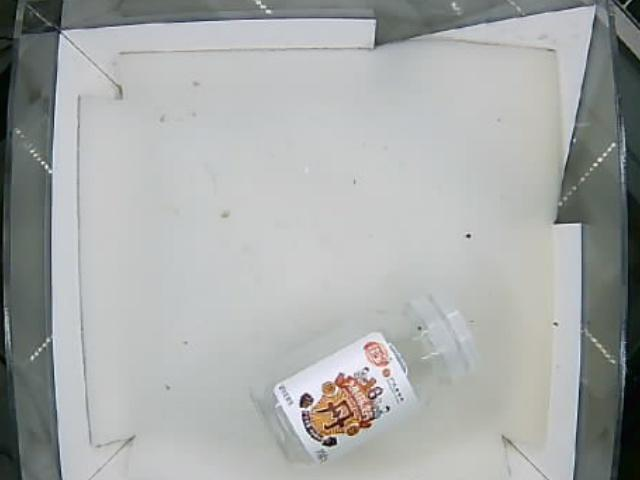Bottle: (244, 284, 482, 471)
